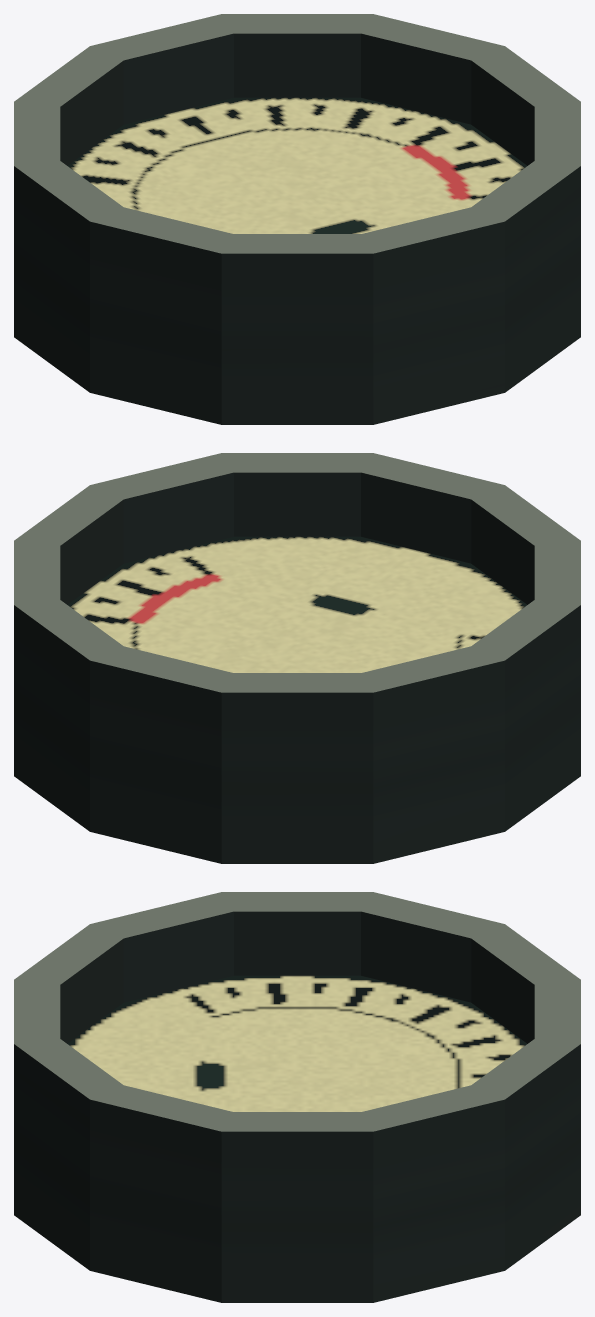
File: SM_LabPanel_Gauge_Face_24x24x8.fbx
3 renders of one model, top to bottom at view 1: azimuth 30°, elevation 25°; view 2: azimuth 150°, elevation 25°; view 3: azimuth 270°, elevation 25°, orthographic.
Parts seen in each view (by area): view 1: SM_LabPanel_Gauge_Face_24x24x8.001; view 2: SM_LabPanel_Gauge_Face_24x24x8.001; view 3: SM_LabPanel_Gauge_Face_24x24x8.001.
Boxes of the visible parts, left/top/right/bottom form: SM_LabPanel_Gauge_Face_24x24x8.001: left=14, top=14, right=580, bottom=424; SM_LabPanel_Gauge_Face_24x24x8.001: left=14, top=453, right=580, bottom=863; SM_LabPanel_Gauge_Face_24x24x8.001: left=14, top=892, right=580, bottom=1302.
Size of the model in its own units: 0.24 by 0.08 by 0.24.
